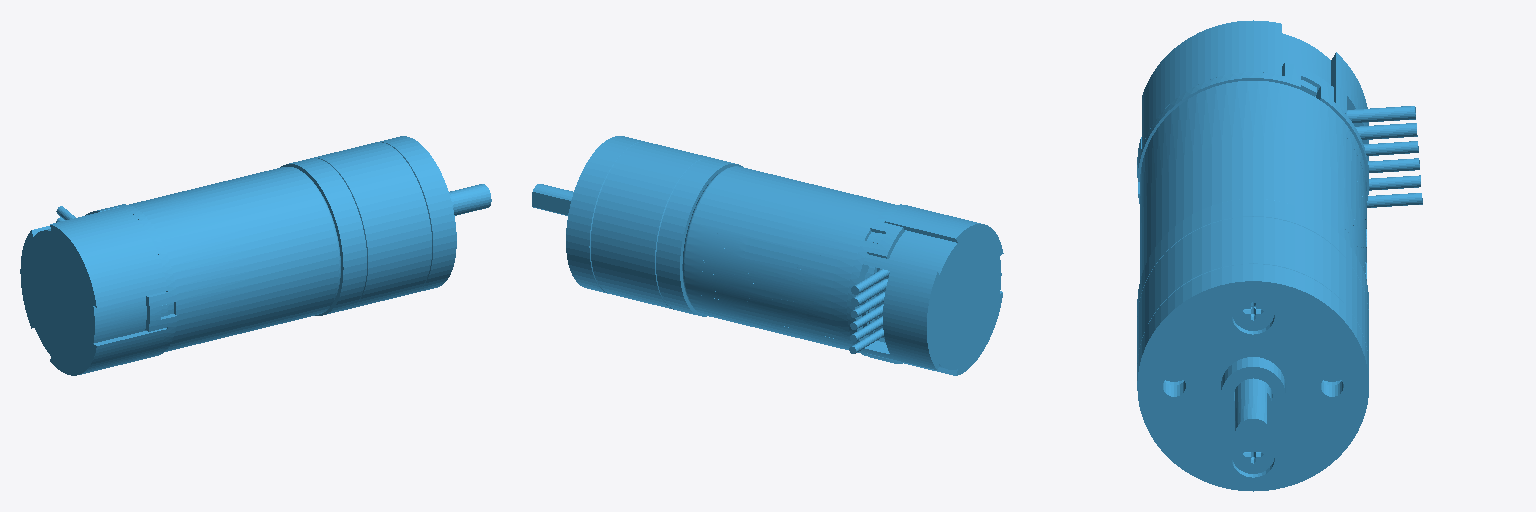
URDF robot description (dc_motor):
<?xml version="1.0"?>

    <robot name="dc_motor">

    <link name="world" />

    <link name="Motor" >
        <visual>
            <origin xyz="0 0 0" rpy="0 1.5707 0"/>
            <geometry>
                <mesh filename="package://motor_sim/models/dcMotor.stl"/>
            </geometry>
        </visual>
    </link>

    <link name="Wheel" >
        <visual>
            <origin xyz="0 0 0" rpy="0 1.5707 0"/>
            <geometry>
                <mesh filename="package://motor_sim/models/wheel.stl"/>
            </geometry>
        </visual>
    </link>

    <joint name="world_motor_joint" type="fixed">
        <parent link="world"/>
        <child link="Motor"/>
        <origin rpy="0 0 0" xyz="0 0 0.1"/>
    </joint>

    <joint name="motor_wheel_joint" type="continuous">
        <parent link="Motor"/>
        <child link="Wheel"/>
        <axis xyz="1 0 0"/>
        <origin rpy="0 3.1415 0" xyz="0.02 0 0"/>
    </joint>

</robot>

--- Render facts (derived) ---
3 views of the same robot in one strip: view 1: azimuth 30°, elevation 25°; view 2: azimuth 150°, elevation 25°; view 3: azimuth 270°, elevation 25° (orthographic).
Robot: dc_motor — 3 links, 2 joints (1 continuous, 1 fixed); root link world; default pose: every joint at zero.
Links seen in each view (by area): view 1: Motor; view 2: Motor; view 3: Motor.
Boxes of the visible links, <box> form: Motor: <box>20,136,491,375</box>; Motor: <box>532,136,1003,375</box>; Motor: <box>1137,20,1422,491</box>.
Bounding box of the posed robot: 0.079 × 0.0308 × 0.025 m (x, y, z).
Meshes: 2 distinct files referenced, 1 mesh visuals loaded (1 binary STL); not drawn: 1 (reference not matched to a file when rendering).